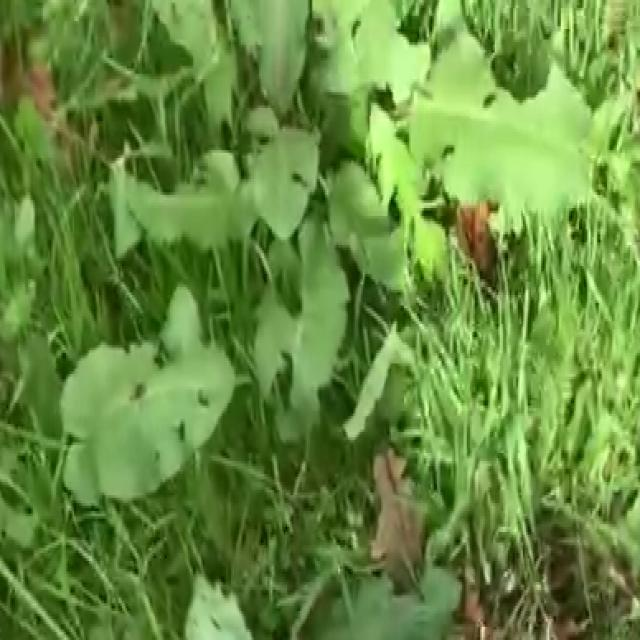organic waste: (75, 0, 613, 400), (34, 319, 260, 519), (166, 545, 490, 640)
